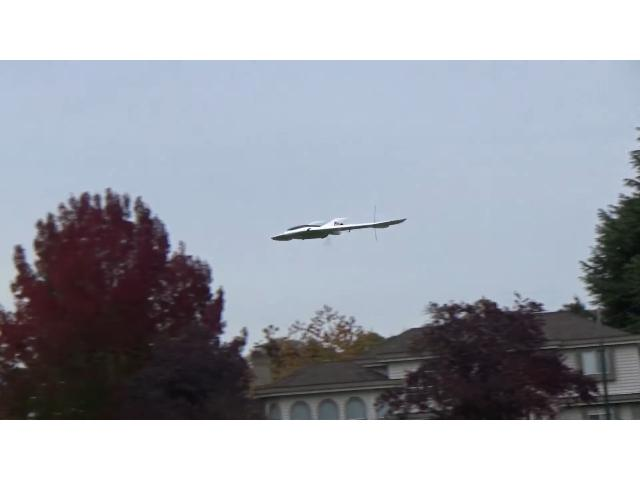Anti-Drone: (273, 216, 405, 240)
